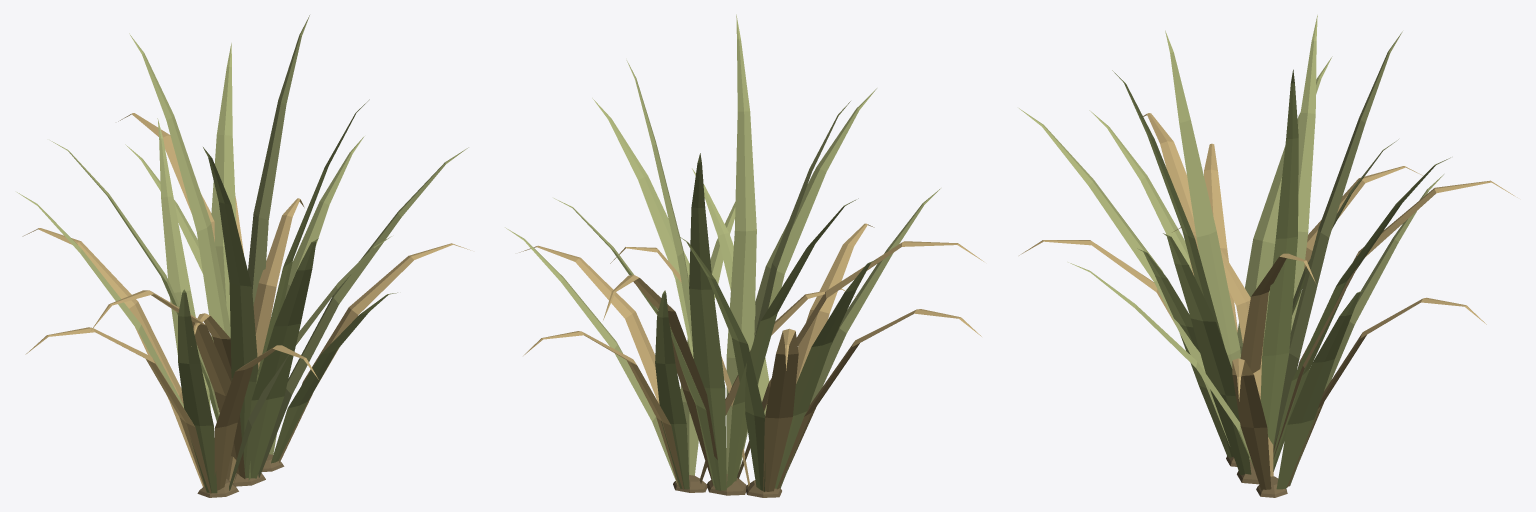
3 views of the same model, side by side, from view 1: azimuth 30°, elevation 25°; view 2: azimuth 150°, elevation 25°; view 3: azimuth 270°, elevation 25° (orthographic). The views are drawn at different scales.
Visible parts, largest first — view 1: Blade_Main_07, Blade_Main_03, Blade_Main_02, Blade_Left_02, Blade_Main_01, Blade_Main_05, Blade_Main_08, Blade_Left_03, Blade_Left_06, Blade_Left_08, Blade_Main_09, Blade_Right_03 (+11 smaller); view 2: Blade_Main_04, Blade_Main_02, Blade_Left_07, Blade_Right_02, Blade_Main_06, Blade_Left_03, Blade_Left_01, Blade_Main_07, Blade_Main_10, Blade_Main_08, Blade_Right_04, Blade_Left_06 (+12 smaller); view 3: Blade_Main_01, Blade_Main_03, Blade_Main_08, Blade_Main_02, Blade_Right_01, Blade_Main_06, Blade_Right_04, Blade_Left_01, Blade_Main_05, Blade_Main_07, Blade_Left_08, Blade_Main_04 (+11 smaller).
Part boxes in pixels (box(x1,y1,x2,y2)): Blade_Main_07: box(245, 238, 318, 478); Blade_Main_03: box(203, 147, 258, 477); Blade_Main_02: box(129, 33, 230, 341); Blade_Left_02: box(178, 289, 217, 493); Blade_Main_01: box(248, 15, 309, 305); Blade_Main_05: box(211, 43, 236, 338); Blade_Main_08: box(258, 147, 468, 477); Blade_Left_03: box(157, 118, 210, 409); Blade_Left_06: box(214, 345, 318, 490); Blade_Left_08: box(226, 198, 304, 483); Blade_Main_09: box(90, 290, 245, 478); Blade_Right_03: box(271, 292, 397, 463); Blade_Main_04: box(726, 14, 756, 473); Blade_Main_02: box(689, 153, 726, 490); Blade_Left_07: box(763, 328, 798, 491); Blade_Right_02: box(655, 290, 689, 489); Blade_Main_06: box(726, 198, 858, 488); Blade_Left_03: box(677, 235, 765, 491); Blade_Left_01: box(775, 259, 877, 488); Blade_Main_07: box(738, 88, 876, 472); Blade_Main_10: box(603, 275, 717, 484); Blade_Main_08: box(592, 98, 693, 358); Blade_Right_04: box(519, 245, 659, 404); Blade_Left_06: box(796, 223, 874, 383); Blade_Main_01: box(1260, 69, 1298, 444); Blade_Main_03: box(1165, 30, 1249, 459); Blade_Main_08: box(1163, 233, 1251, 475); Blade_Main_02: box(1273, 31, 1402, 471); Blade_Right_01: box(1276, 290, 1364, 489); Blade_Main_06: box(1263, 15, 1317, 346); Blade_Right_04: box(1232, 358, 1271, 490); Blade_Left_01: box(1237, 56, 1332, 354); Blade_Main_05: box(1273, 157, 1450, 468); Blade_Main_07: box(1019, 108, 1229, 445); Blade_Left_08: box(1240, 253, 1315, 373); Blade_Main_04: box(1112, 70, 1224, 345).
Bounding box in the file's own units: 0.7505 × 0.666 × 0.678.
